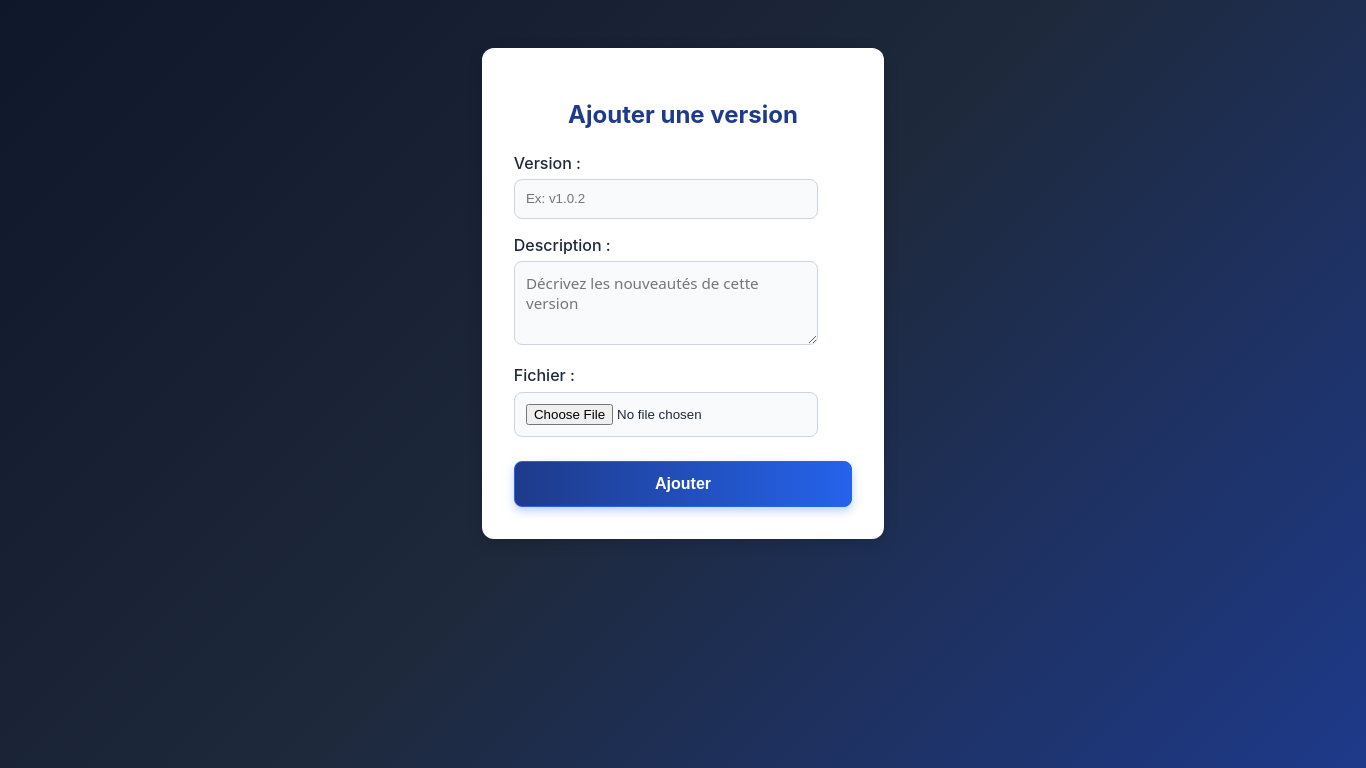
Test case: AddVersion › affiche une erreur si des champs obligatoires manquent
In the field labelled "Version :": point(666, 199) x1=514 y1=179 x2=818 y2=219, type "v3.0.0"
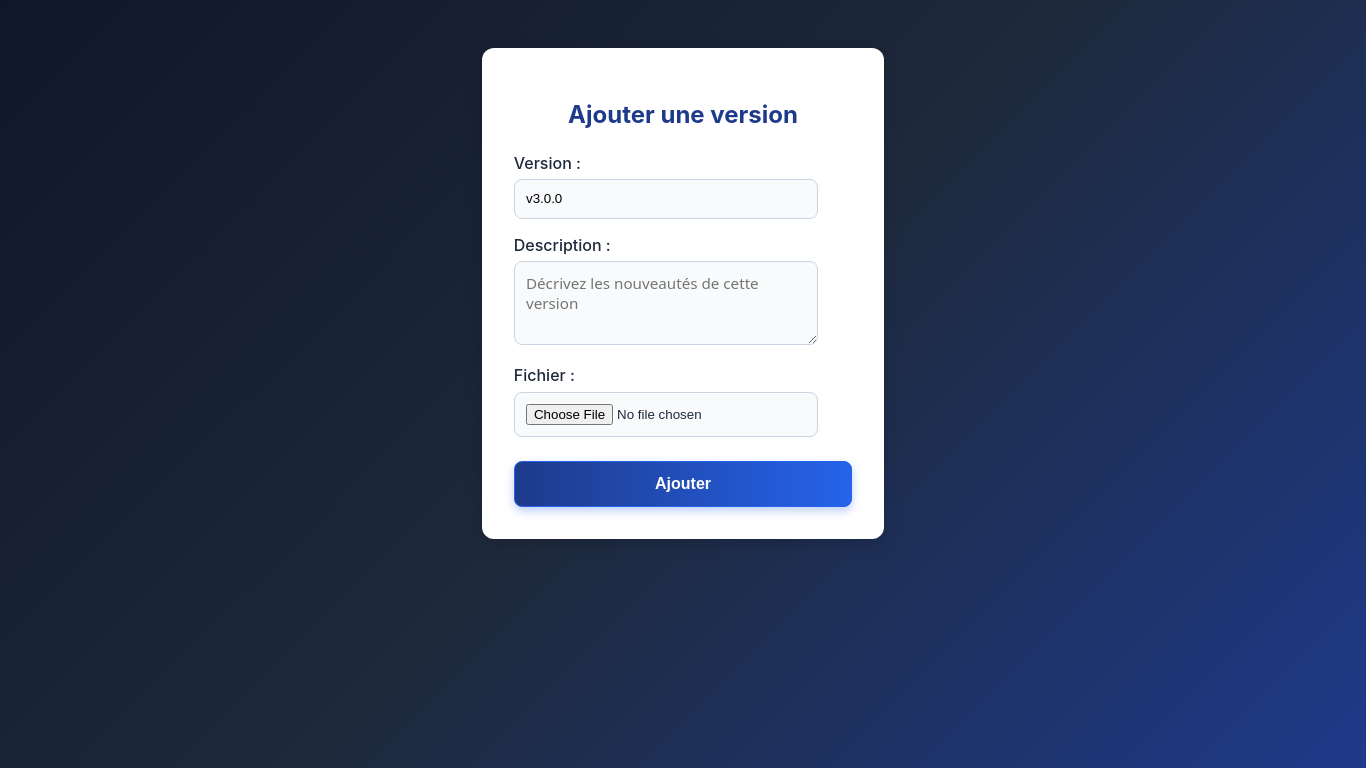
Submit the text "Ajouter", box x1=514 y1=153 x2=852 y2=507
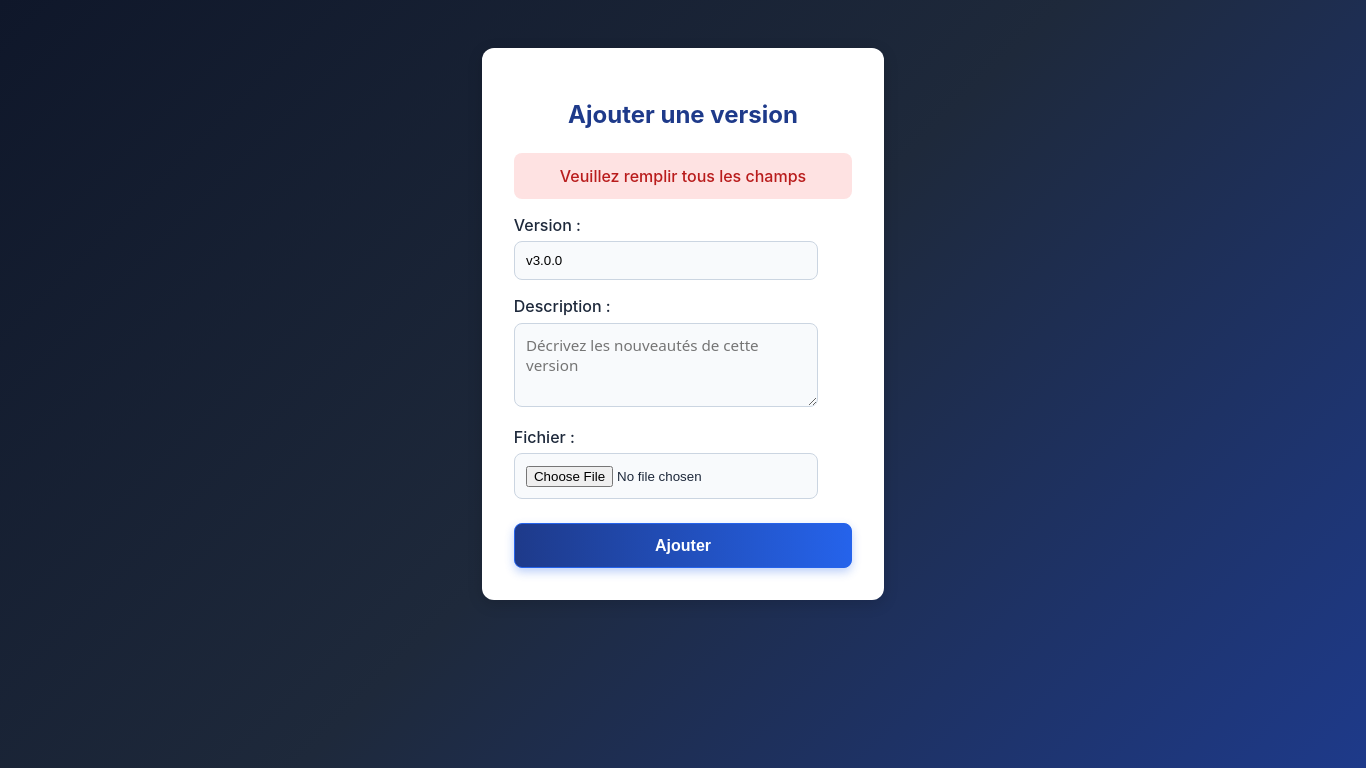
Check: the text "Veuillez remplir tous les champs" is shown, box x1=514 y1=153 x2=852 y2=198
